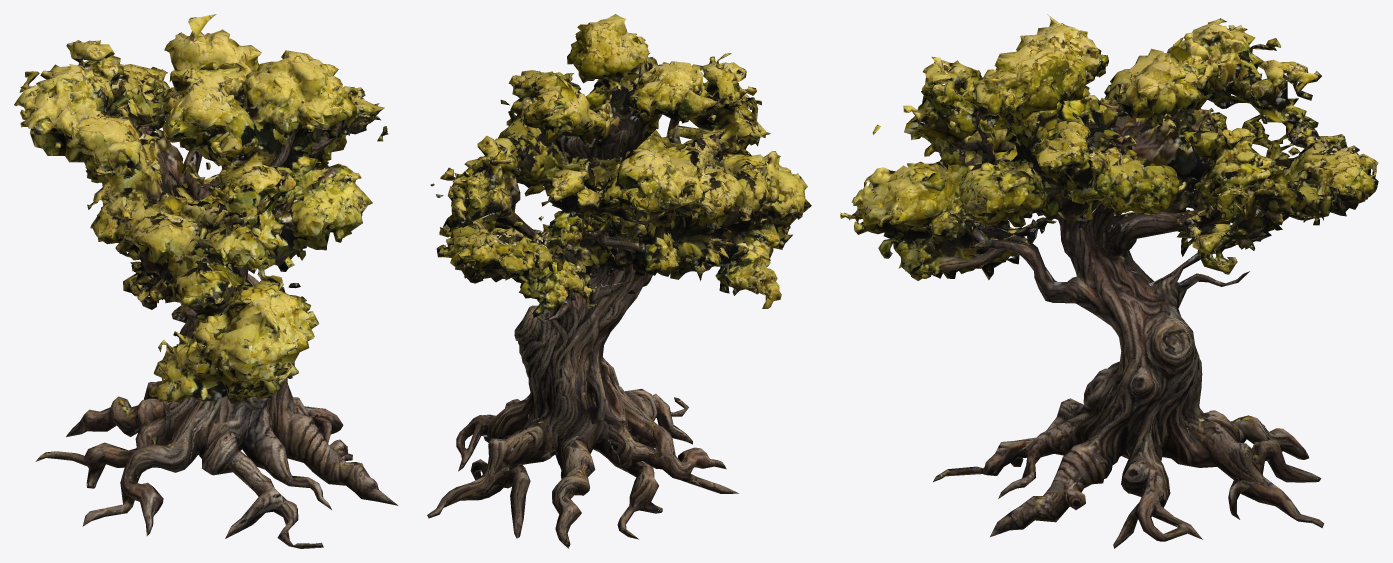
The model's file is prop_tree_a.glb.
The picture shows the model from 3 angles, left to right: view 1: azimuth 30°, elevation 25°; view 2: azimuth 150°, elevation 25°; view 3: azimuth 270°, elevation 25°; orthographic projection. The views are drawn at different scales.
Visible parts, largest first — view 1: texture_mapping; view 2: texture_mapping; view 3: texture_mapping.
Part boxes in pixels (left/top/right/bottom): texture_mapping: left=14, top=14, right=398, bottom=548; texture_mapping: left=427, top=14, right=811, bottom=548; texture_mapping: left=840, top=14, right=1378, bottom=548.
Bounding box in the file's own units: 0.6099 × 0.8981 × 0.9597.
1 material, 1 textured.
